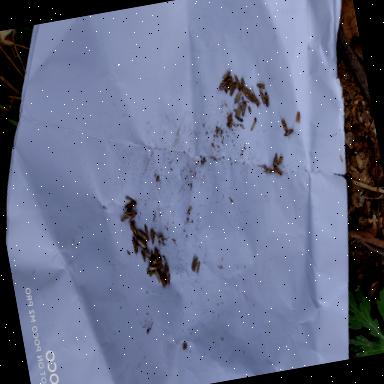pbw: (222, 77, 238, 93), (160, 261, 170, 286), (190, 254, 202, 272), (238, 100, 249, 118), (251, 92, 262, 110), (138, 228, 151, 242), (227, 82, 238, 98), (131, 236, 140, 255), (148, 228, 158, 245), (124, 208, 138, 220), (147, 262, 159, 276), (232, 90, 244, 104), (233, 103, 244, 118), (156, 253, 165, 271), (234, 72, 242, 92), (154, 266, 162, 286), (248, 117, 259, 131), (164, 260, 172, 278), (130, 221, 139, 237), (238, 76, 247, 92), (136, 236, 146, 250), (244, 90, 254, 104), (158, 271, 166, 288), (273, 166, 284, 178), (280, 116, 288, 132), (258, 88, 266, 104), (264, 91, 272, 107), (225, 114, 234, 128), (275, 154, 286, 165), (255, 79, 266, 90), (271, 152, 279, 167), (140, 250, 150, 262), (148, 252, 156, 266), (223, 74, 234, 84), (294, 110, 303, 122), (119, 213, 130, 222), (242, 86, 253, 95), (154, 246, 160, 262), (264, 166, 276, 174), (222, 70, 232, 79), (166, 274, 172, 286), (218, 82, 226, 90), (236, 115, 244, 123), (246, 104, 252, 114), (143, 247, 150, 255)
